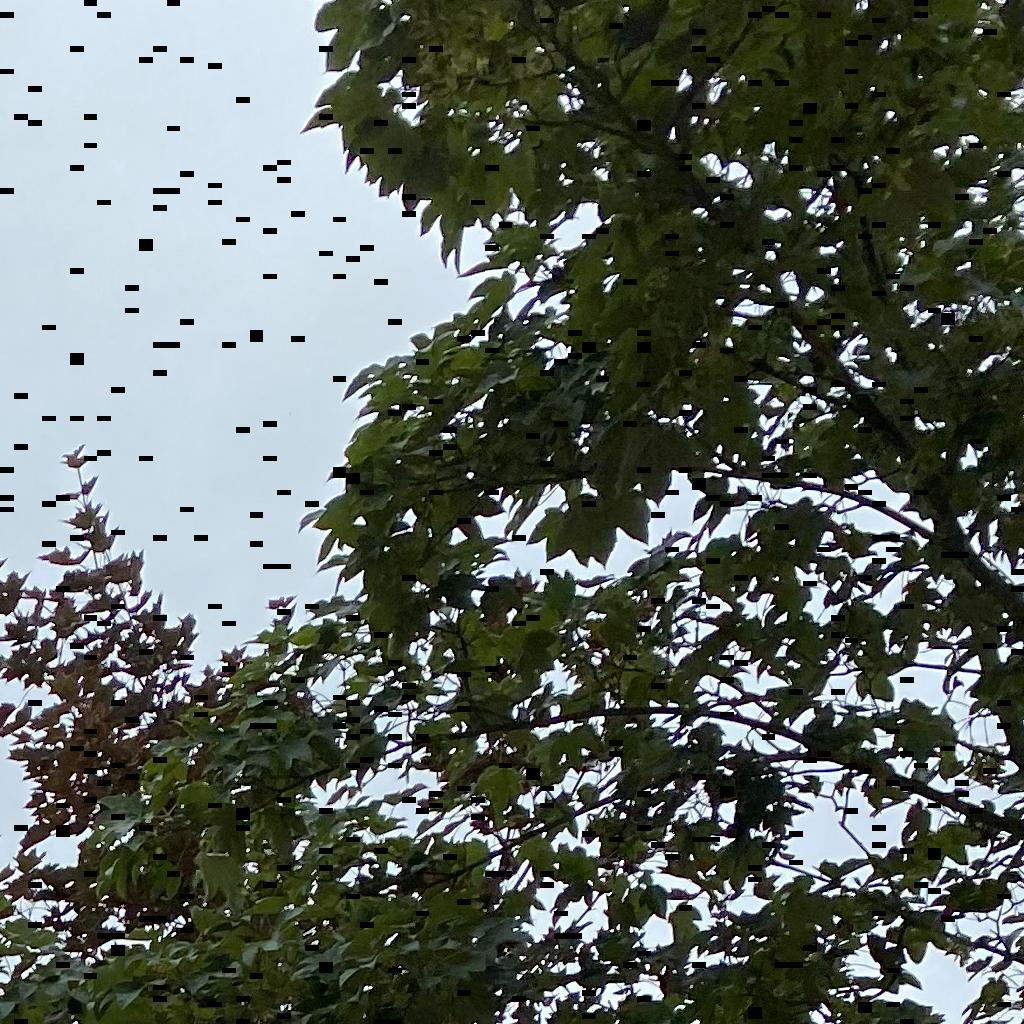tree: (299, 1, 1024, 1024), (1, 602, 994, 1024), (1, 443, 296, 960)
